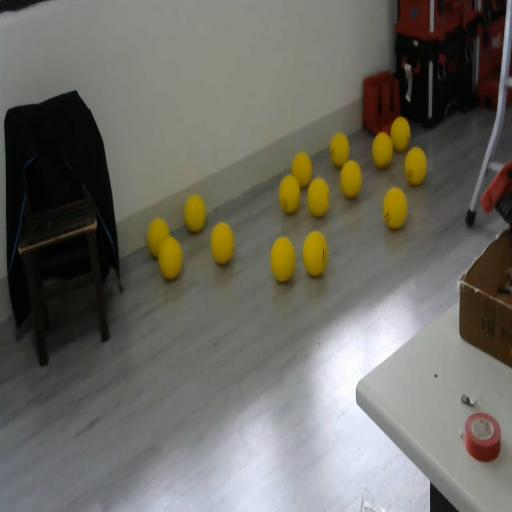FUEL: (270, 234, 296, 284), (157, 234, 183, 282), (302, 229, 328, 277), (210, 220, 236, 266), (382, 186, 408, 230), (339, 158, 363, 200), (307, 176, 330, 218), (404, 146, 428, 186), (184, 193, 207, 233), (278, 175, 300, 215), (291, 151, 313, 189), (372, 131, 393, 168), (390, 116, 411, 152), (329, 132, 350, 167)
